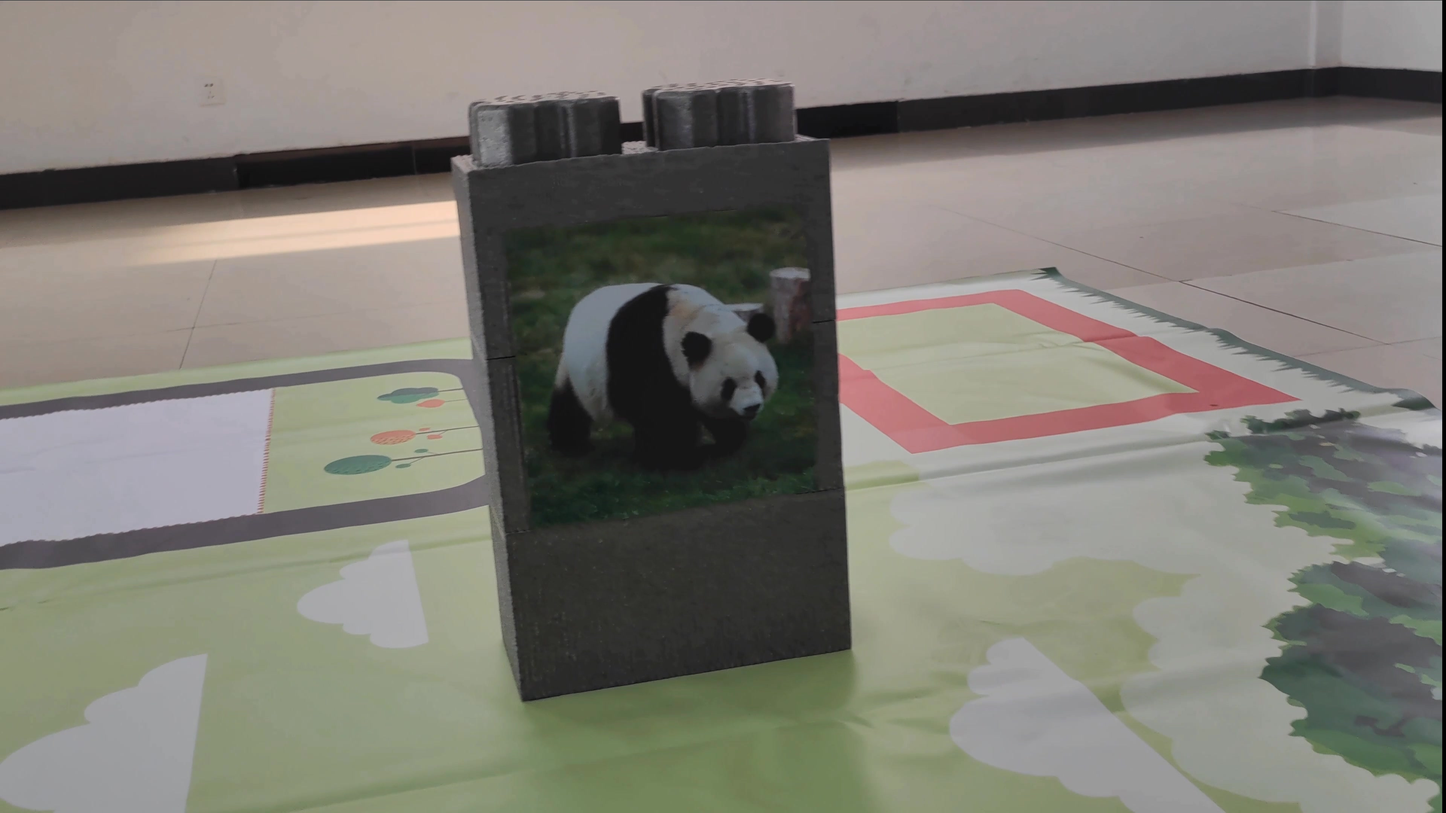panda: (530, 268, 818, 497)
